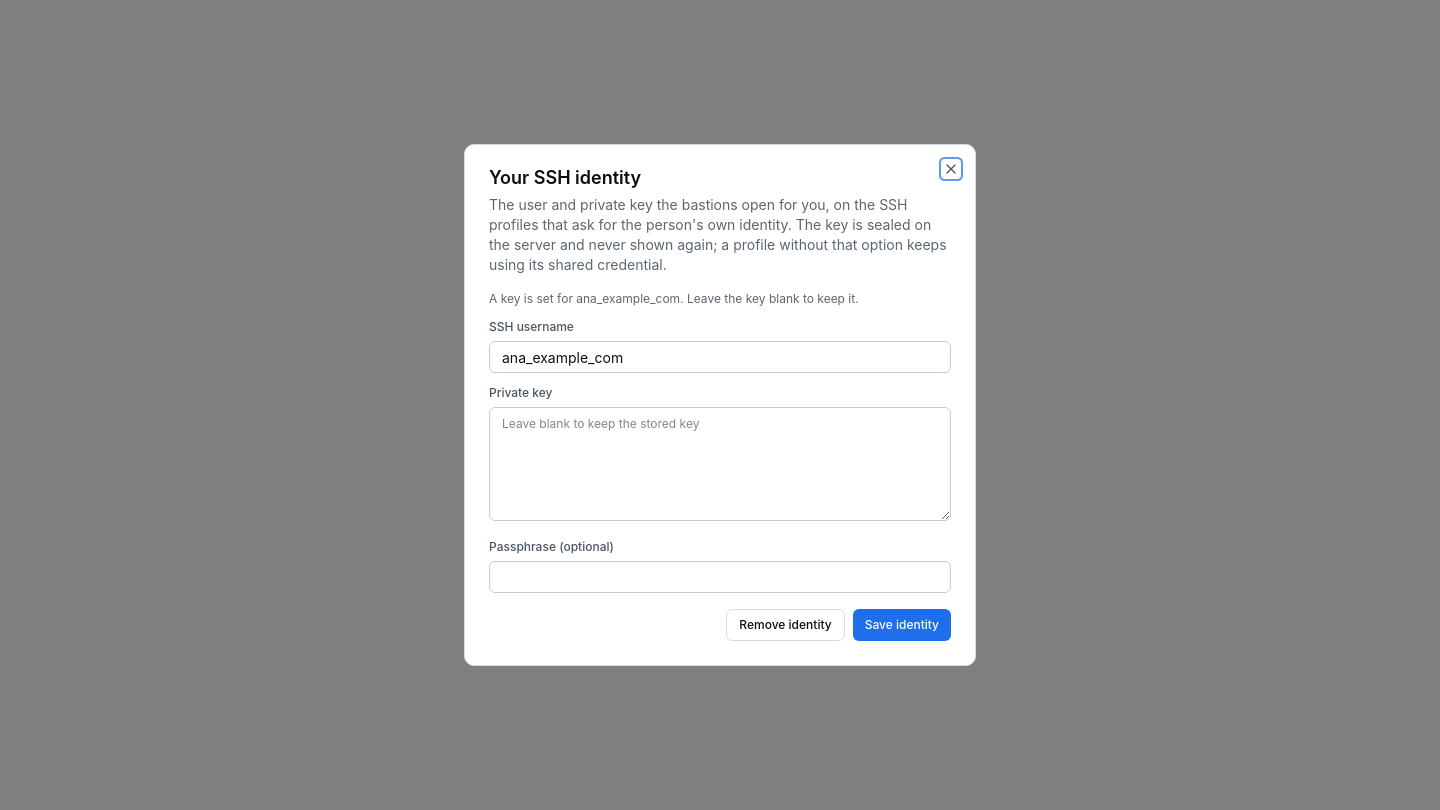
SshIdentityDialog › a removal the server refuses is shown, and the identity stays
Click the button "Remove identity" at (785, 625), box x1=726 y1=609 x2=845 y2=641
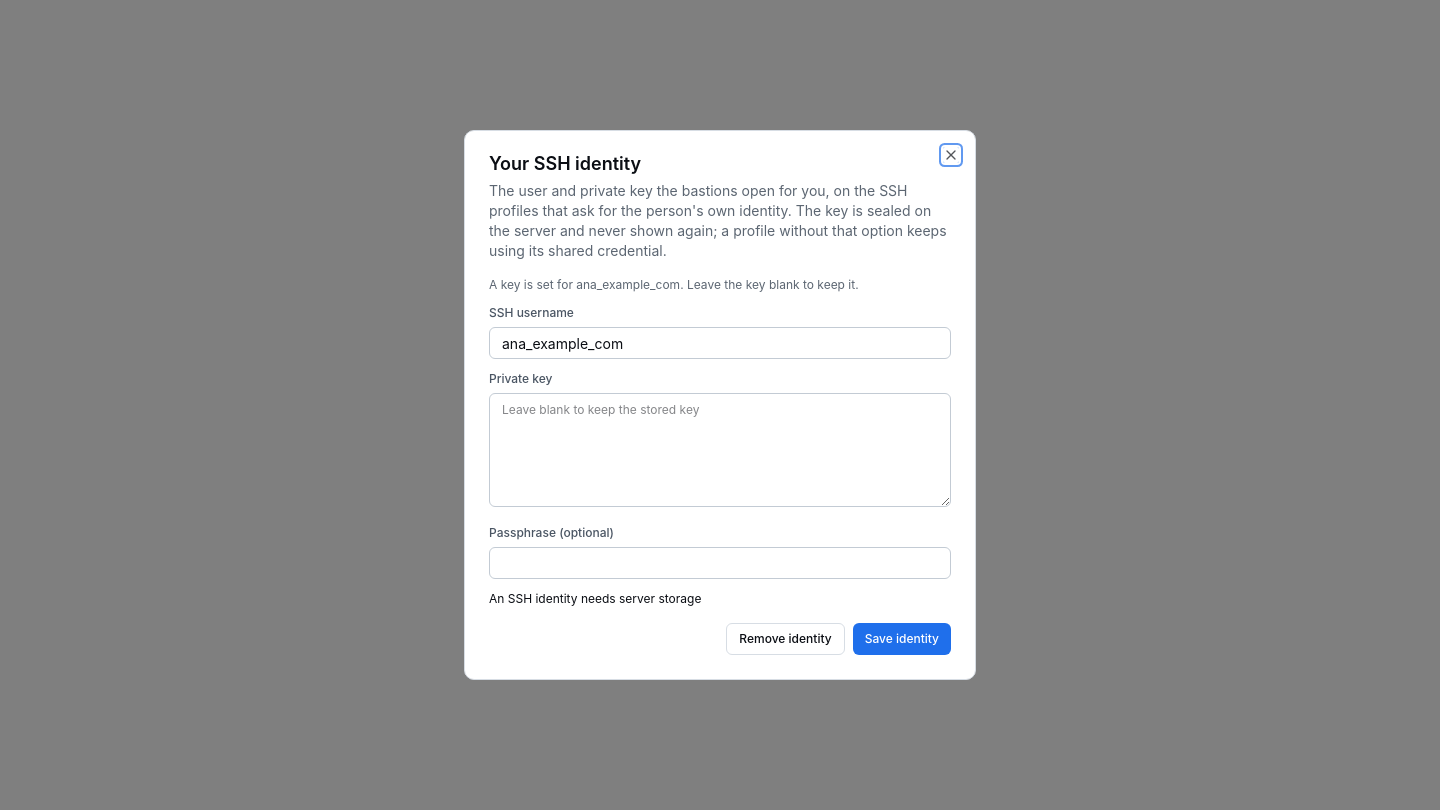
Expected: the text with test id "ssh-identity-state" shows "A key is set", x1=489 y1=277 x2=859 y2=292
Now the text with test id "ssh-identity-error" shows "needs server storage", box x1=489 y1=591 x2=701 y2=606
